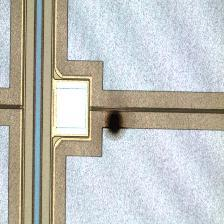PARTICLE: (96, 104, 136, 144)
